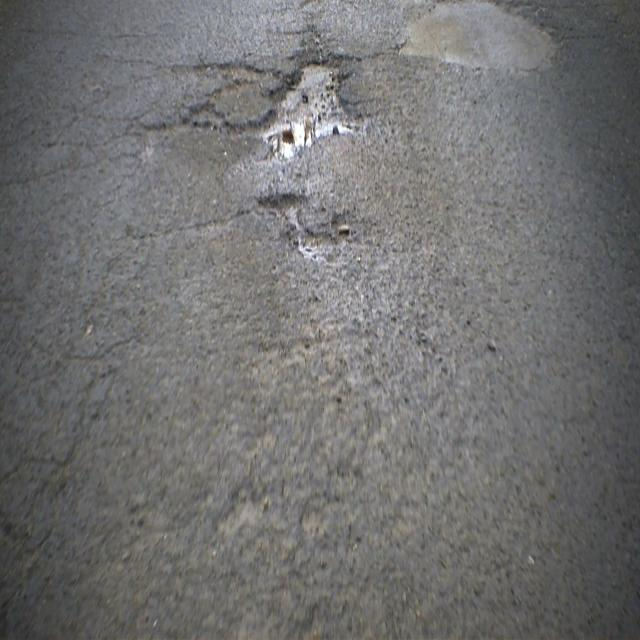Pothole: (244, 37, 366, 275)
